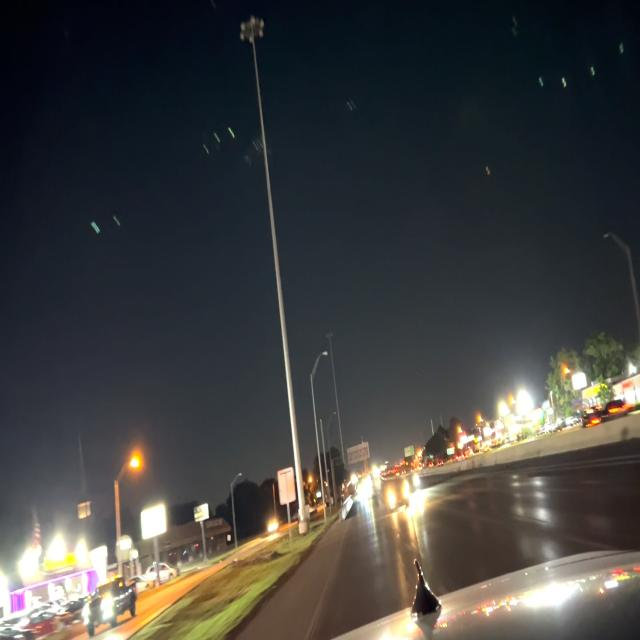back-of-sign: (275, 466, 296, 508)
